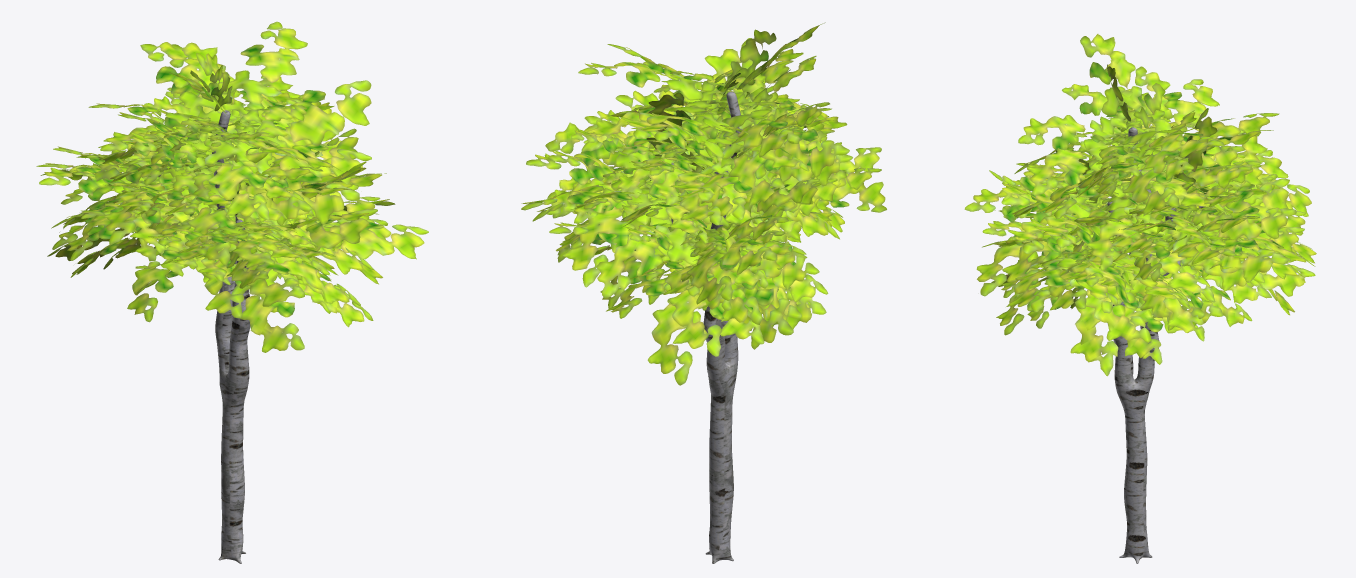
Rendered from Birch wood_1.fbx.
The picture shows the model from 3 angles, left to right: view 1: azimuth 30°, elevation 25°; view 2: azimuth 150°, elevation 25°; view 3: azimuth 270°, elevation 25°; orthographic projection. The views are drawn at different scales.
Parts seen in each view (by area): view 1: Cube; view 2: Cube; view 3: Cube.
Part boxes in pixels (box(x1,y1,x2,y2)): Cube: box(36, 21, 428, 563); Cube: box(521, 22, 886, 563); Cube: box(964, 34, 1316, 563).
Bounding box in the file's own units: 1472 × 2339 × 1682.
